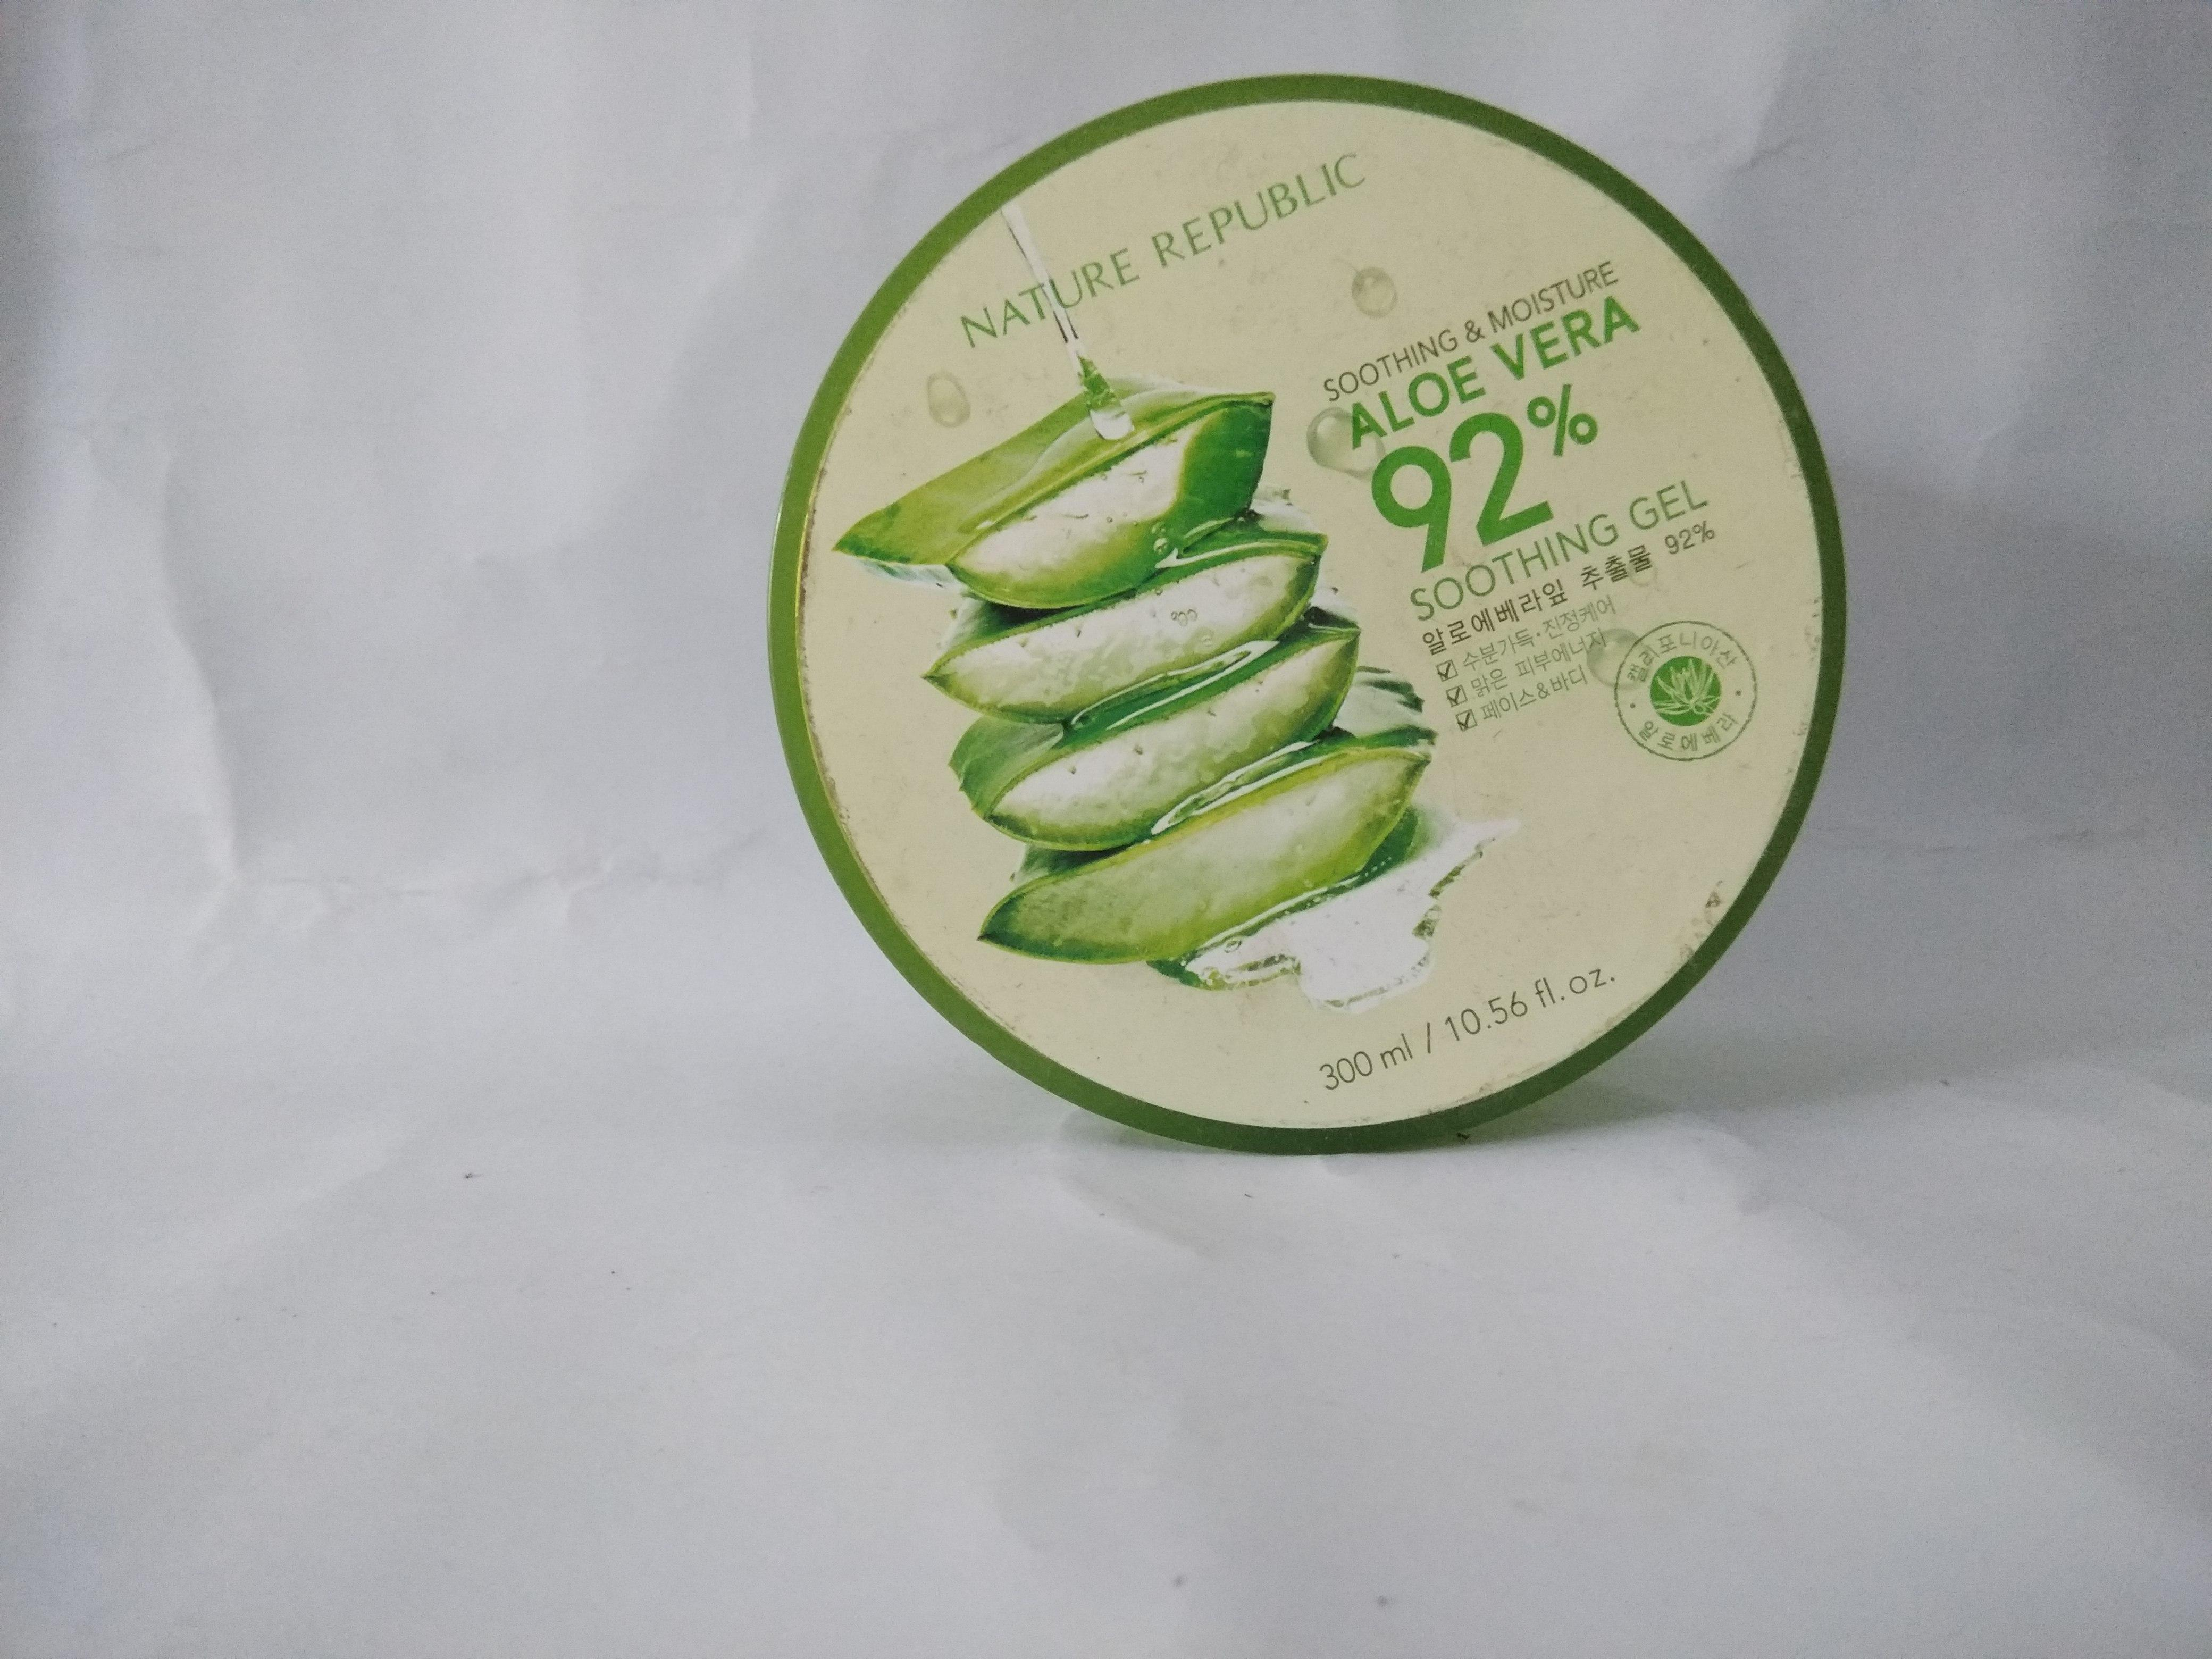PP: (772, 70, 1848, 1152)
